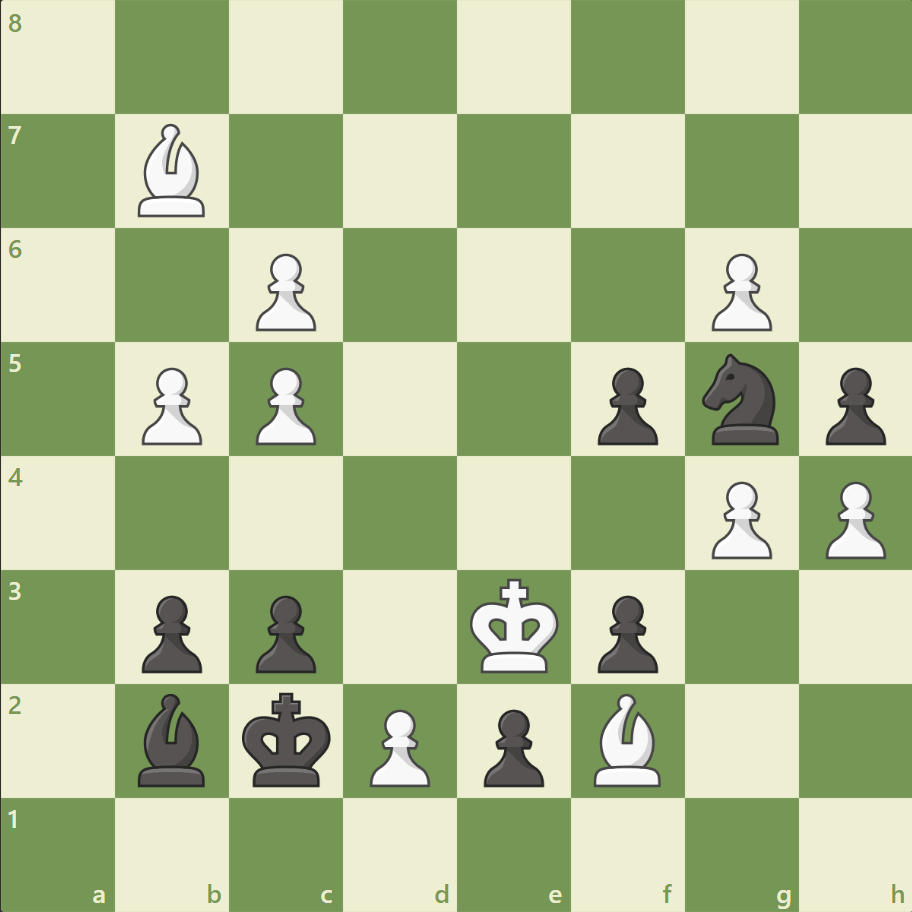B: (585, 687, 669, 790), (131, 120, 215, 222)
K: (465, 571, 565, 679)
P: (247, 246, 322, 337), (701, 246, 776, 337), (133, 359, 208, 450), (247, 359, 322, 450), (701, 473, 776, 564), (815, 473, 889, 564), (361, 700, 435, 791)
b: (131, 687, 215, 790)
k: (238, 685, 338, 793)
n: (692, 348, 789, 450)
p: (133, 586, 208, 677), (247, 586, 322, 677), (474, 700, 549, 791), (588, 359, 662, 450), (815, 359, 889, 450), (588, 586, 662, 677)
